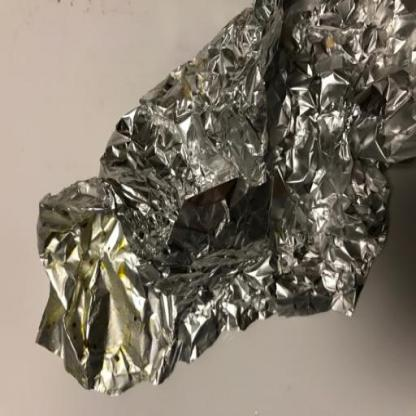METAL: (33, 0, 416, 396)
